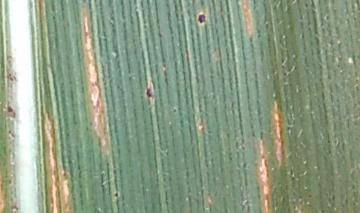tarspot: (2, 101, 17, 121), (142, 80, 155, 101), (195, 9, 208, 25), (110, 186, 123, 200)
